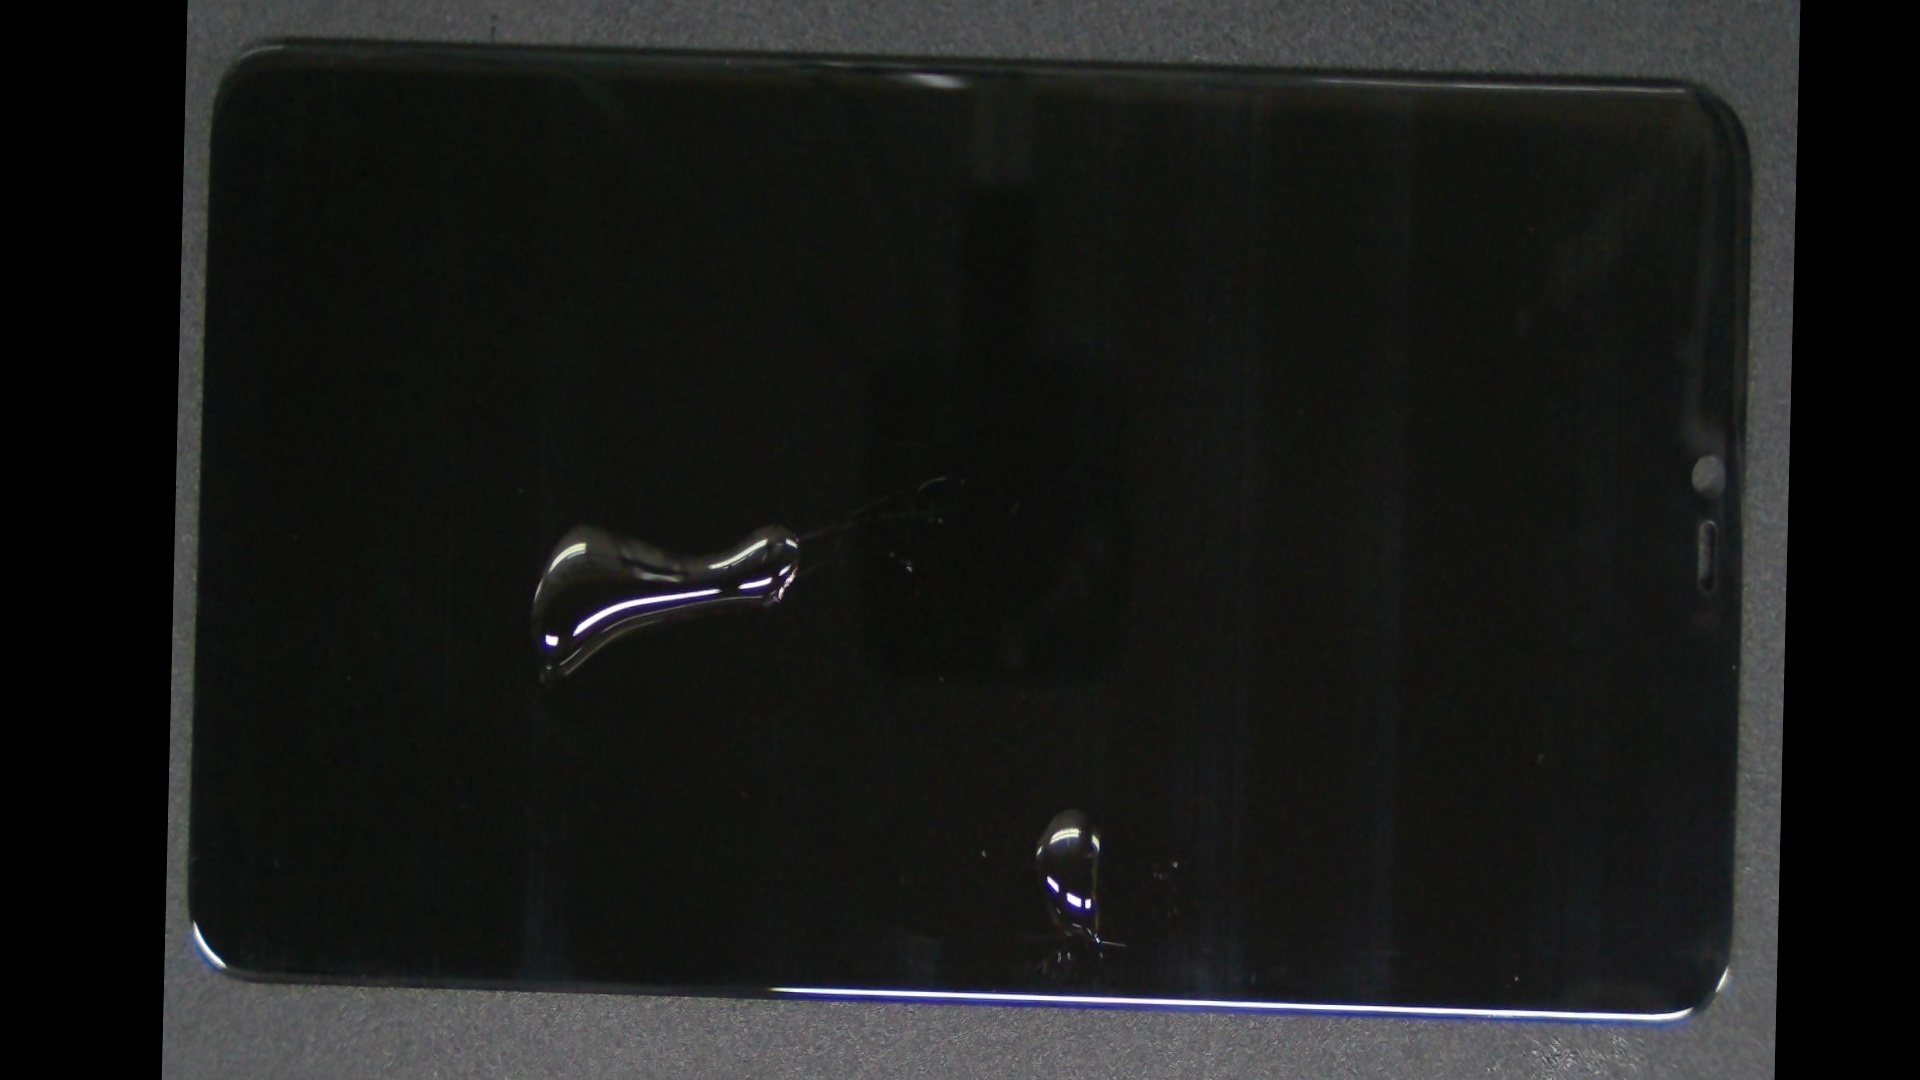oil: (612, 373, 1531, 1080), (472, 231, 1089, 815)
